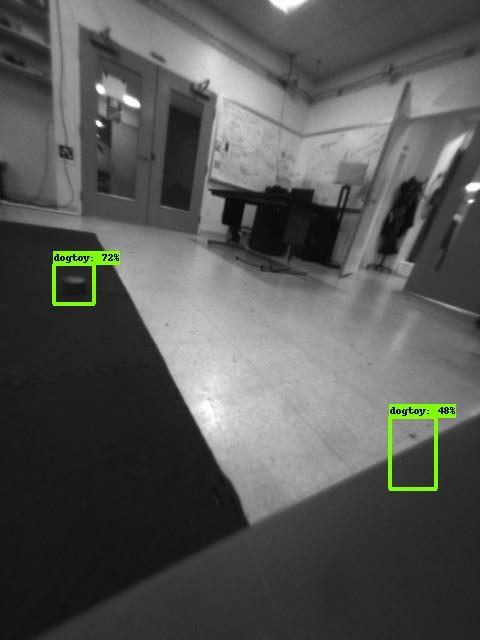dogtoy: (53, 267, 95, 295)
